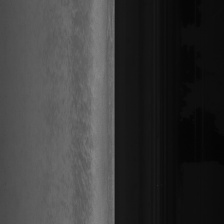silk_spot: (70, 58, 98, 179)
